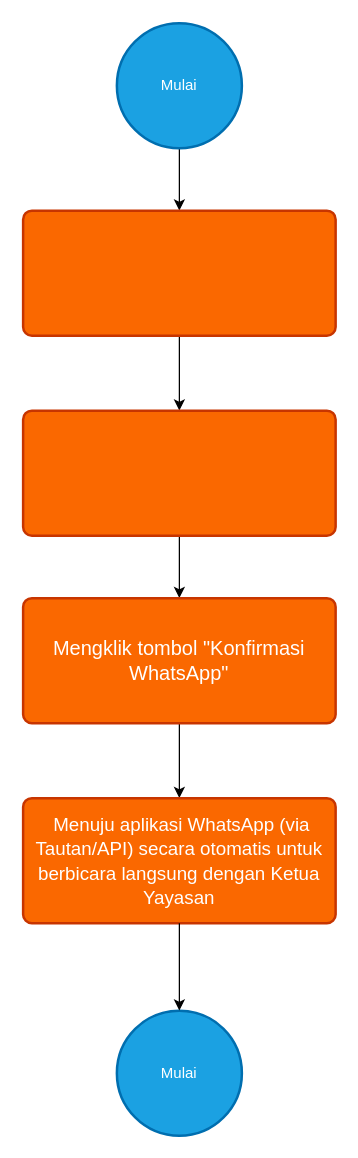
This 358x1158 diagram has some shape labels left out. Each missing label, with the centre of its shape:
Membaca Instruksi Alur Donasi: (x=178, y=472)
Membuka website dan menuju ke halaman "Alur Donasi": (x=178, y=272)
